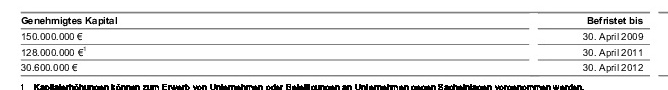table: (0, 0, 668, 90)
